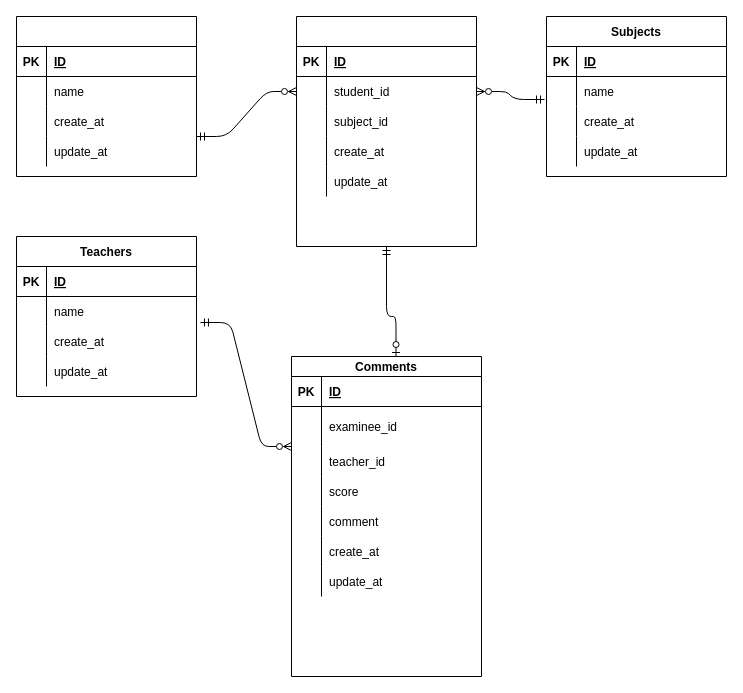
Some shapes in this 743 by 693 pixel diagram are drawn without their labels. The shapes that lost their labels are listed below. From the top down, each one's box as (x1, y1, x2, y2) in pixels, then its label:
(16, 16, 196, 176): Students
(296, 16, 476, 246): Examinees
